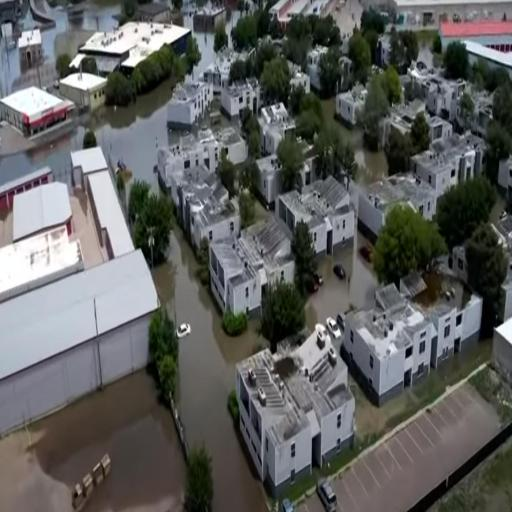flood: (152, 225, 265, 510), (0, 369, 184, 507), (0, 79, 180, 188), (0, 0, 120, 95), (306, 235, 378, 328), (193, 31, 247, 79), (344, 127, 387, 182), (213, 61, 230, 92)
house: (0, 246, 167, 434), (234, 326, 357, 493), (345, 280, 433, 410), (210, 216, 295, 324), (81, 18, 194, 96), (70, 144, 144, 256), (402, 266, 482, 368), (280, 175, 357, 269), (359, 170, 437, 250), (410, 129, 484, 201), (0, 84, 73, 148), (178, 173, 242, 245), (0, 160, 55, 227), (165, 67, 213, 132), (60, 69, 109, 117), (259, 104, 297, 152), (332, 84, 371, 130), (254, 150, 285, 203), (222, 76, 252, 122), (16, 27, 42, 70), (293, 62, 311, 100)
